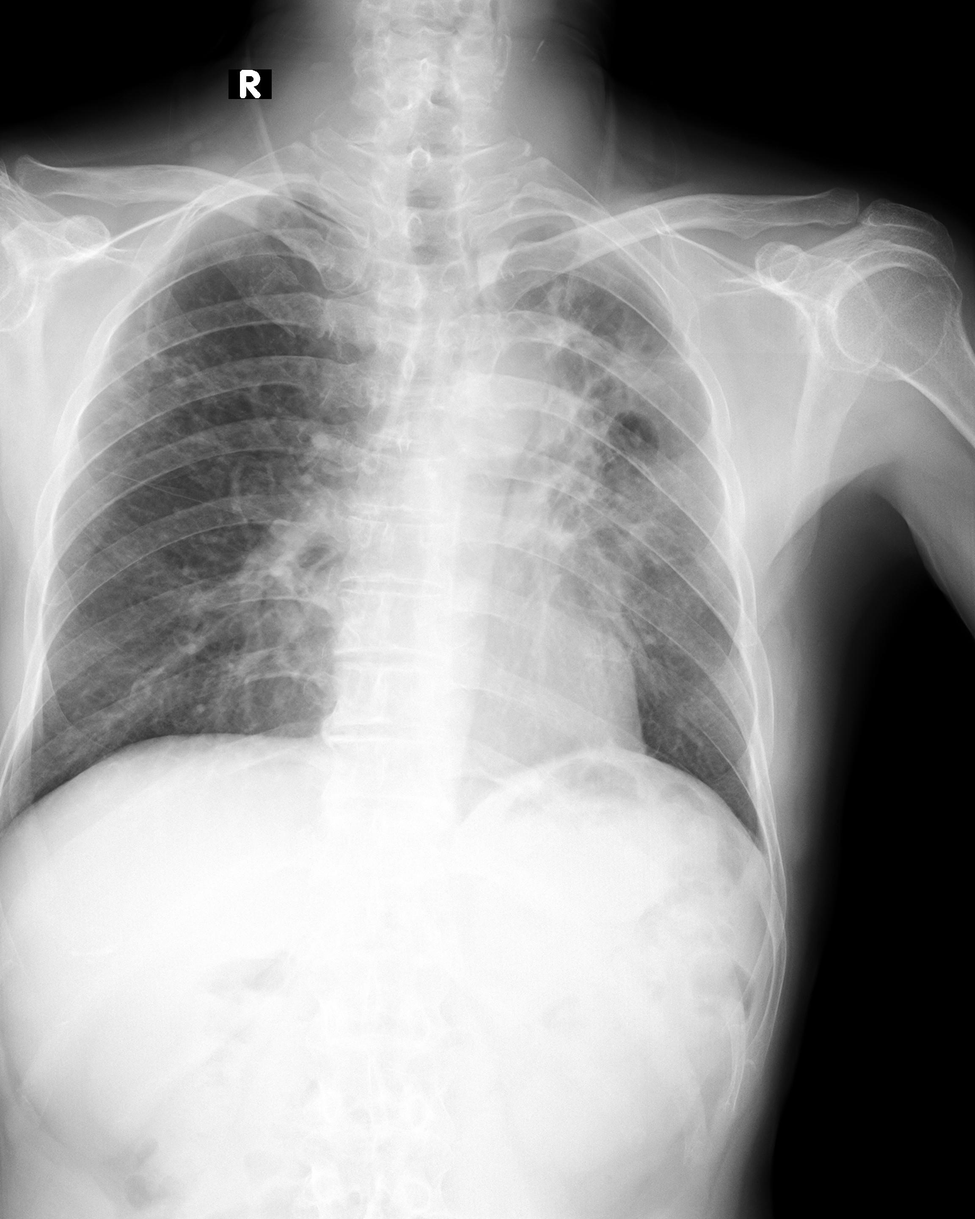Pulmonary fibrosis: (524, 267, 702, 606), (90, 303, 195, 417)
